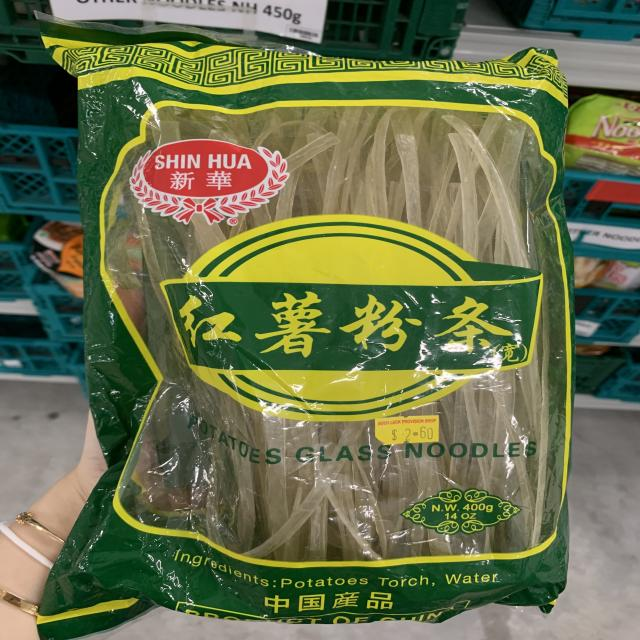object_name: (102, 49, 559, 608)
